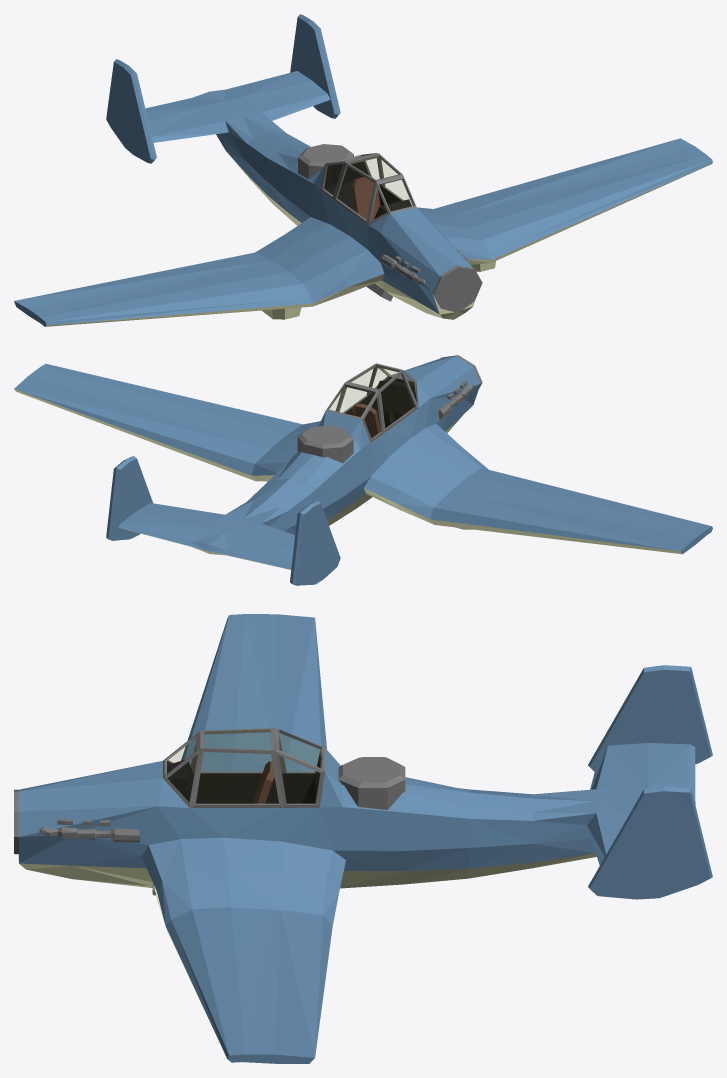
Rendered from aircraft_4_damage.glb.
3 renders of one model, top to bottom at view 1: azimuth 30°, elevation 25°; view 2: azimuth 150°, elevation 25°; view 3: azimuth 270°, elevation 25°, orthographic. The views are drawn at different scales.
Parts seen in each view (by area): view 1: fuselage, TailBreakaway, WingBreakawayLeft, WingBreakawayRight, turret base, seat and panel; view 2: fuselage, TailBreakaway, WingBreakawayLeft, WingBreakawayRight, turret base, seat and panel; view 3: fuselage, TailBreakaway, WingBreakawayRight, WingBreakawayLeft, turret base, seat and panel.
Boxes of the visible parts, x1=… form: fuselage: x1=208, y1=135, x2=534, y2=319; TailBreakaway: x1=106, y1=14, x2=340, y2=185; WingBreakawayLeft: x1=482, y1=138, x2=712, y2=243; WingBreakawayRight: x1=14, y1=262, x2=260, y2=326; turret base: x1=298, y1=144, x2=353, y2=178; seat and panel: x1=351, y1=177, x2=411, y2=220; fuselage: x1=205, y1=355, x2=526, y2=530; TailBreakaway: x1=106, y1=456, x2=340, y2=585; WingBreakawayLeft: x1=14, y1=363, x2=252, y2=463; WingBreakawayRight: x1=479, y1=479, x2=712, y2=554; turret base: x1=297, y1=425, x2=353, y2=463; seat and panel: x1=351, y1=379, x2=414, y2=438; fuselage: x1=14, y1=728, x2=513, y2=954; TailBreakaway: x1=513, y1=665, x2=712, y2=899; WingBreakawayRight: x1=181, y1=614, x2=326, y2=761; WingBreakawayLeft: x1=177, y1=936, x2=328, y2=1063; turret base: x1=338, y1=757, x2=405, y2=809; seat and panel: x1=167, y1=760, x2=274, y2=803.
Bounding box in the file's own units: 14.59 × 2.7 × 9.78.
